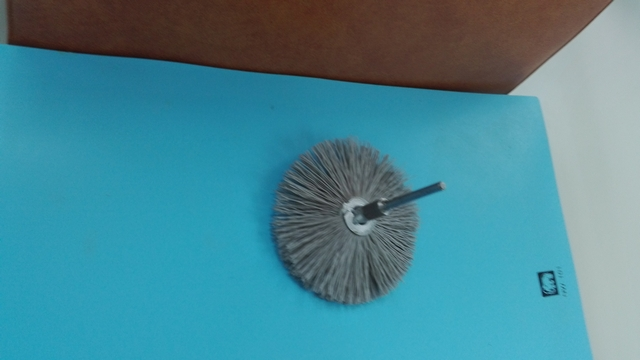TOOL: (222, 111, 489, 332), (263, 138, 453, 312)
